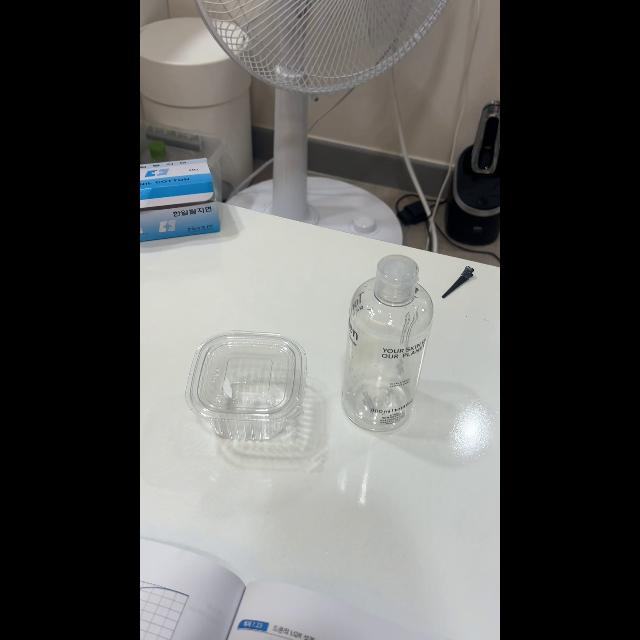clean: (348, 257, 430, 433), (190, 331, 300, 437)
